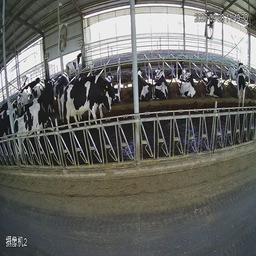cow: (62, 73, 122, 137), (12, 104, 53, 152), (33, 73, 56, 111), (234, 58, 249, 116), (178, 68, 200, 105), (154, 59, 169, 111), (203, 69, 224, 101), (138, 66, 155, 100), (22, 76, 44, 101), (65, 49, 90, 70), (171, 52, 185, 79)
